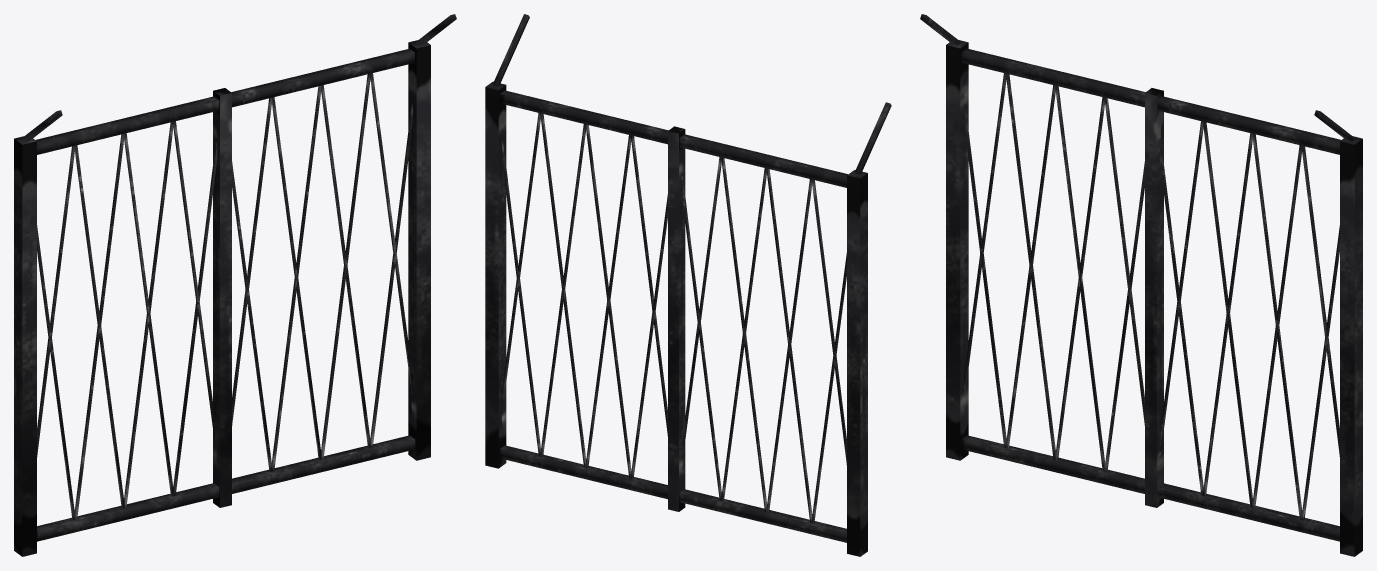
File: Prop_Alambrado.fbx
3 views of the same model, side by side, from view 1: azimuth 30°, elevation 25°; view 2: azimuth 150°, elevation 25°; view 3: azimuth 330°, elevation 25° (orthographic). The views are drawn at different scales.
Parts seen in each view (by area): view 1: Prop_Alambrado; view 2: Prop_Alambrado; view 3: Prop_Alambrado.
Part boxes in pixels (x1,y1,x2,y2): Prop_Alambrado: (14,14,456,556); Prop_Alambrado: (485,14,891,556); Prop_Alambrado: (920,14,1362,556).
Bounding box in the file's own units: 8.3 × 9.04 × 1.38.
